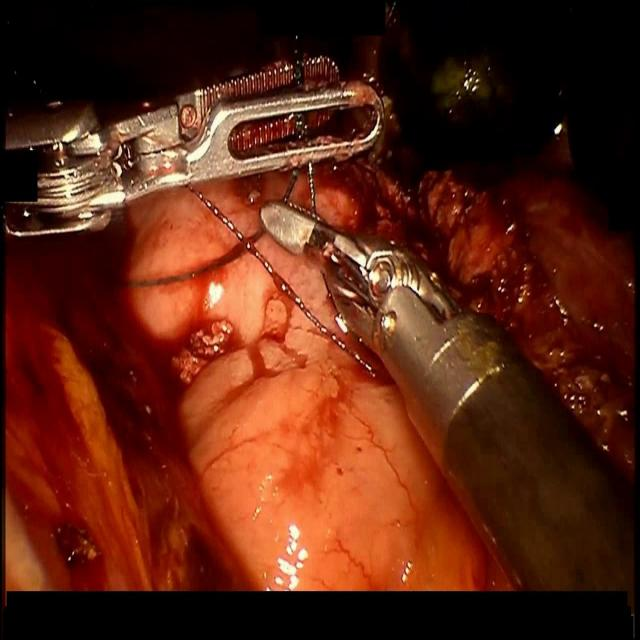surgical-area: (3, 6, 636, 596)
surgical-tool: (258, 198, 636, 596), (0, 55, 386, 242)
